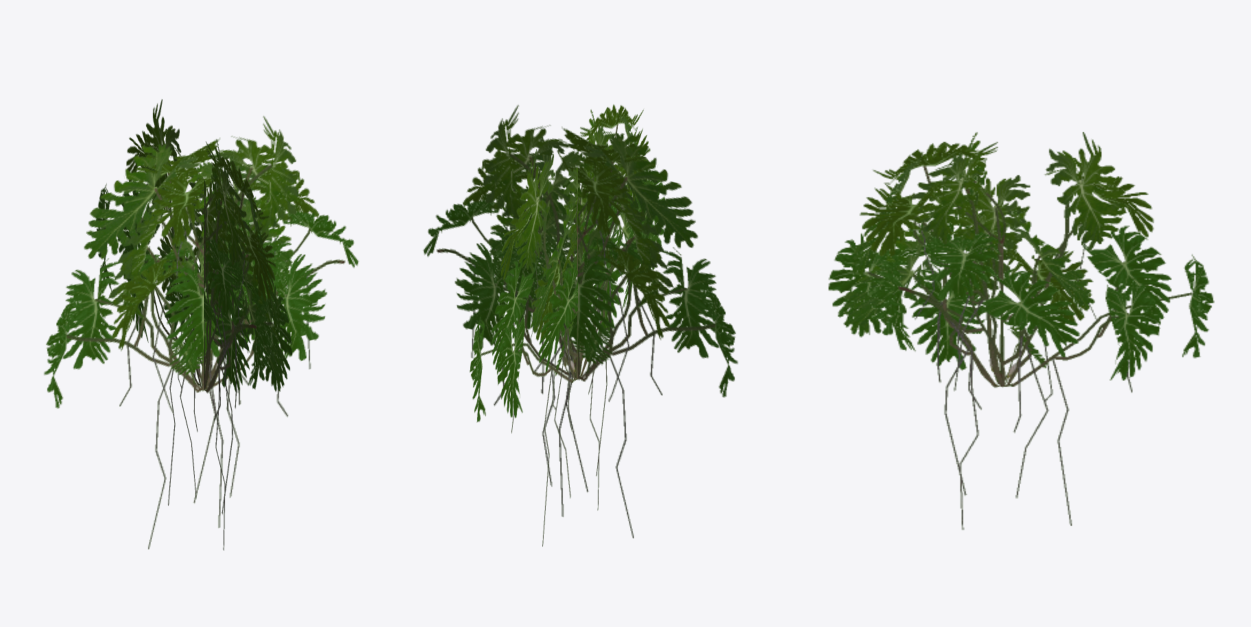
Rendered from PhilodendronSelloum.glb.
The picture shows the model from 3 angles, left to right: view 1: azimuth 30°, elevation 25°; view 2: azimuth 150°, elevation 25°; view 3: azimuth 270°, elevation 25°; orthographic projection. The views are drawn at different scales.
Visible parts, largest first — view 1: mesh__mat_billboard_11; view 2: mesh__mat_billboard_11; view 3: mesh__mat_billboard_11.
Boxes of the visible parts, left/top/right/bottom form: mesh__mat_billboard_11: left=44, top=99, right=358, bottom=550; mesh__mat_billboard_11: left=423, top=104, right=737, bottom=546; mesh__mat_billboard_11: left=828, top=132, right=1214, bottom=529.
Size of the model in its own units: 2.28 by 2.61 by 2.45.
Materials: 1 (1 with a texture image).
